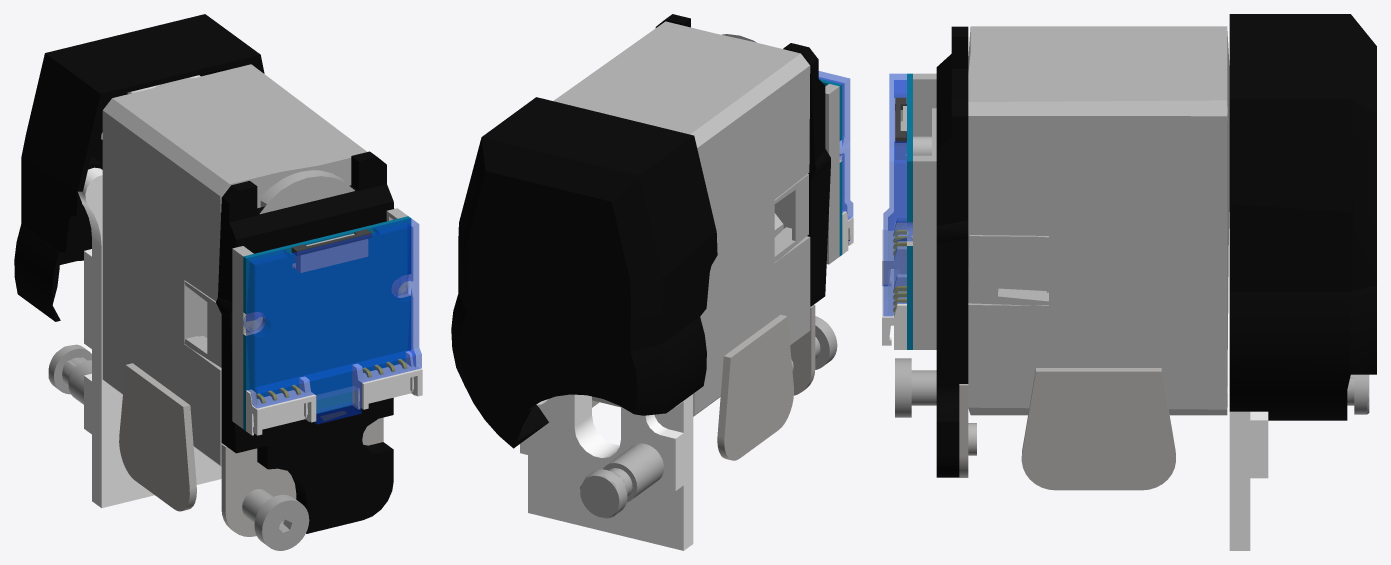
Rendered from l_wrist_r_link.dae.
3 views of the same model, side by side, from view 1: azimuth 30°, elevation 25°; view 2: azimuth 150°, elevation 25°; view 3: azimuth 270°, elevation 25° (orthographic). The views are drawn at different scales.
Parts seen in each view (by area): view 1: FBXASC227FBXASC130FBXASC189FBXASC227FBXASC131FBXASC170FBXASC (×16); view 2: FBXASC227FBXASC130FBXASC189FBXASC227FBXASC131FBXASC170FBXASC (×13); view 3: FBXASC227FBXASC130FBXASC189FBXASC227FBXASC131FBXASC170FBXASC (×15).
Part boxes in pixels (left/top/right/bottom): FBXASC227FBXASC130FBXASC189FBXASC227FBXASC131FBXASC170FBXASC (×16): left=14, top=14, right=422, bottom=550; FBXASC227FBXASC130FBXASC189FBXASC227FBXASC131FBXASC170FBXASC (×13): left=451, top=14, right=853, bottom=550; FBXASC227FBXASC130FBXASC189FBXASC227FBXASC131FBXASC170FBXASC (×15): left=882, top=14, right=1376, bottom=550.
Size of the model in its own units: 0.047 by 0.0833 by 0.084.
